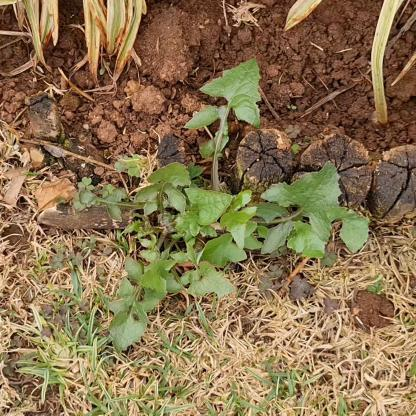Weeds: (73, 58, 369, 353)
